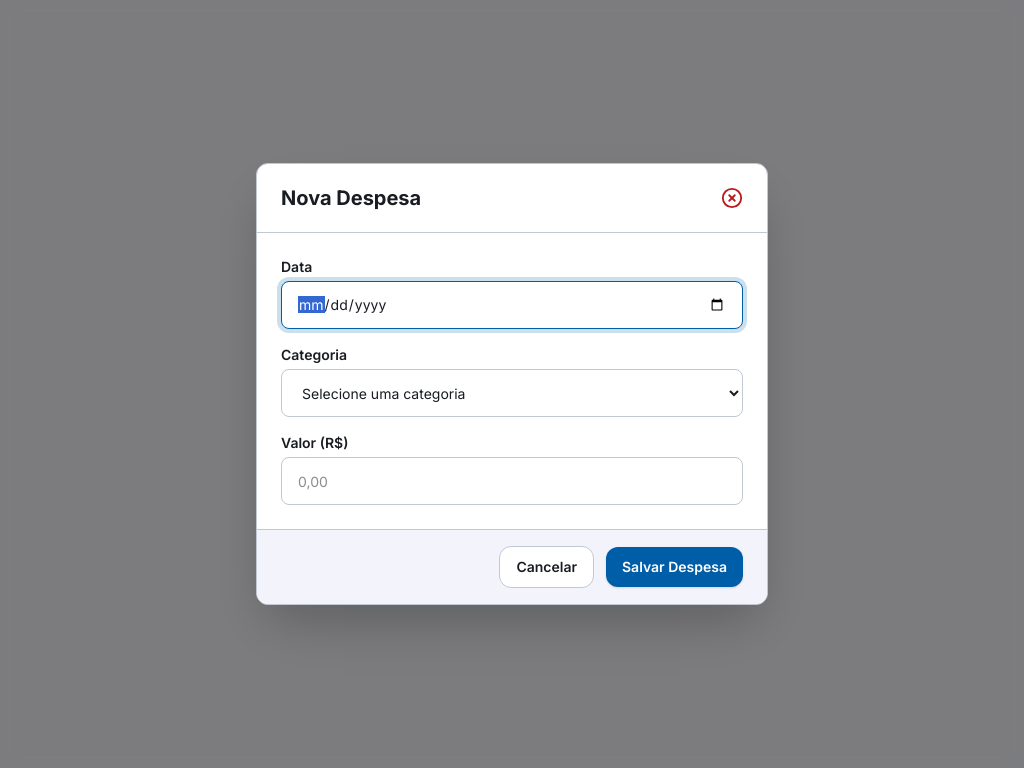
AddExpenseModal › shows validation error when amount is zero or negative
The image size is (1024, 768).
Type "2024-01-15" into the date field labelled "Data" at (512, 305), box [281, 281, 743, 329]
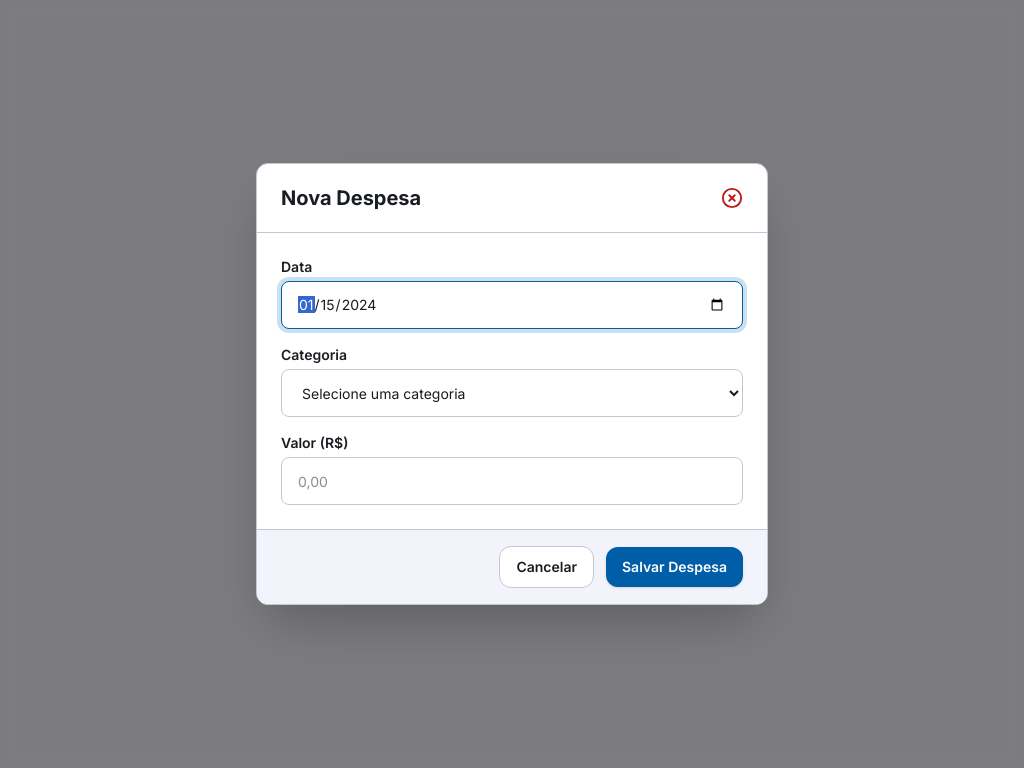
Select "Alimentação" in the dropdown labelled "Categoria" at (512, 393), box [281, 369, 743, 417]
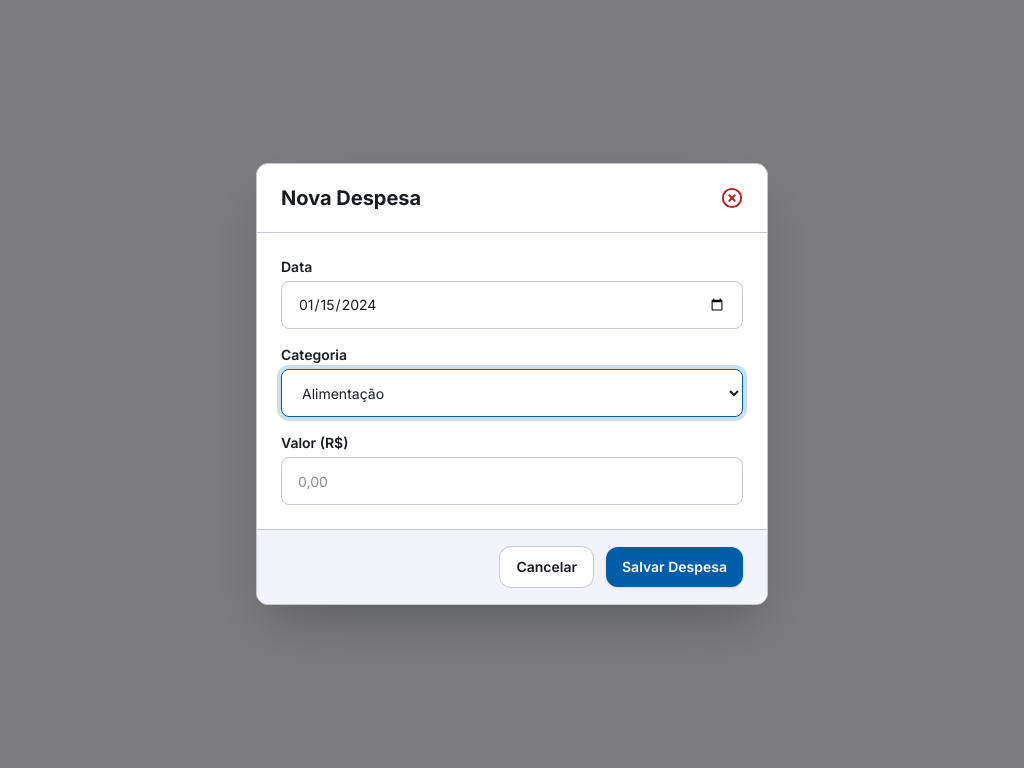
Type "0" into the number field labelled "Valor (R$)" at (512, 481), box [281, 457, 743, 505]
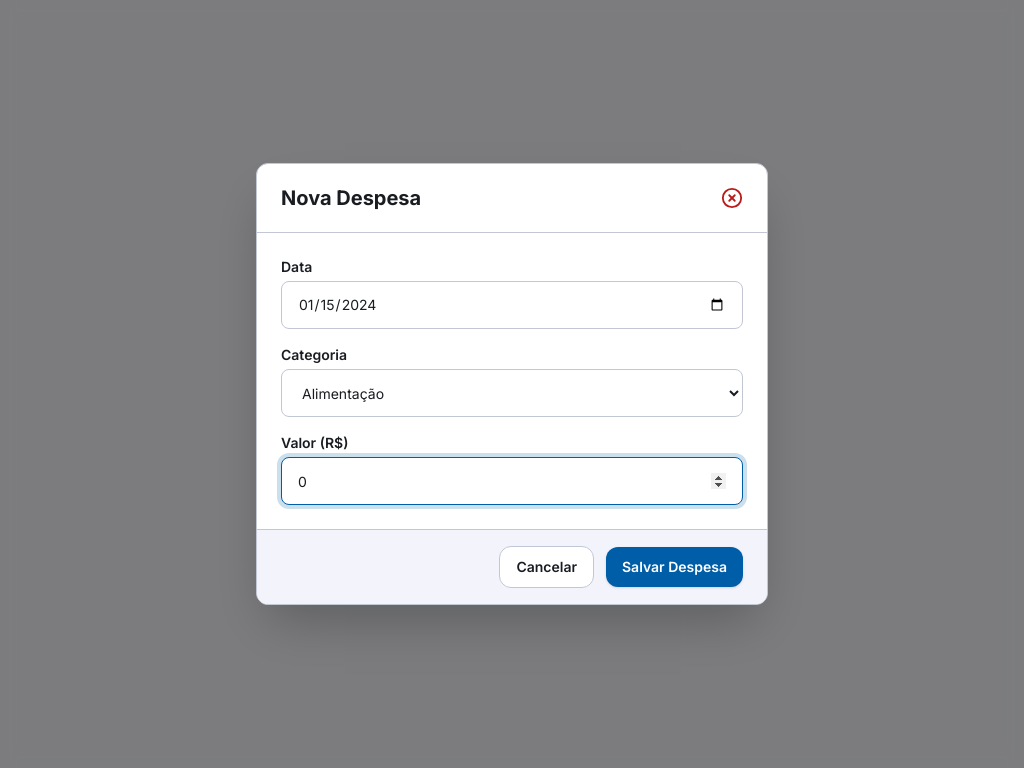
Click the button "Salvar Despesa" at (674, 567), box [606, 547, 743, 587]
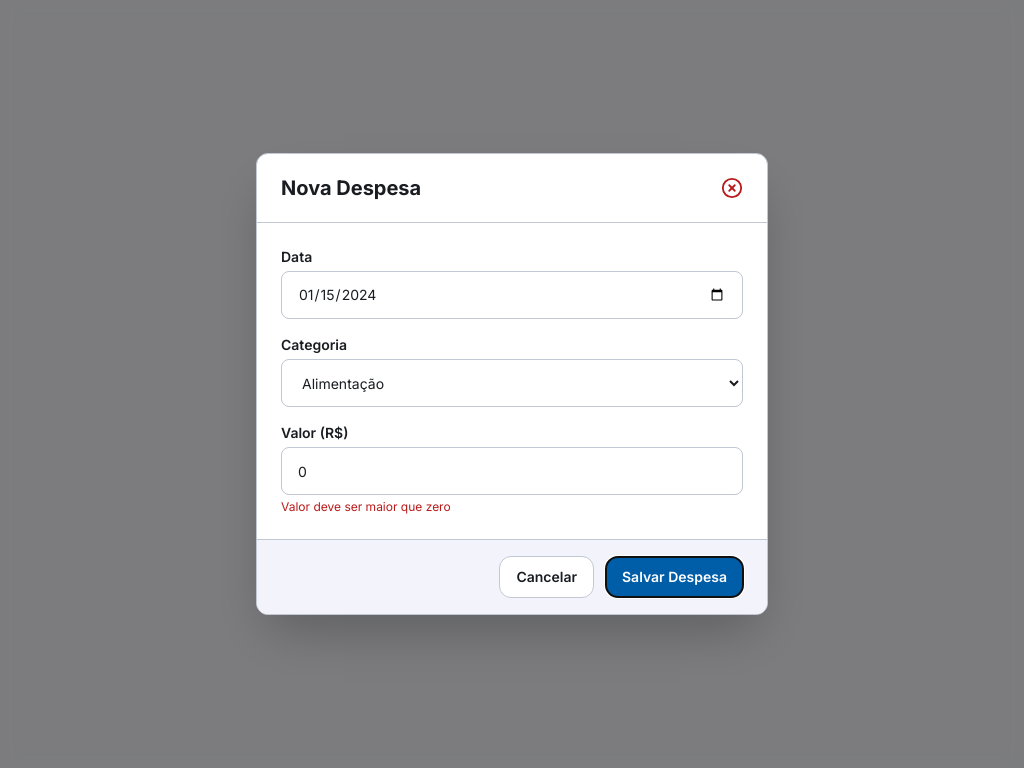
Now the text "Valor deve ser maior que zero" is shown, box [281, 499, 451, 514]
